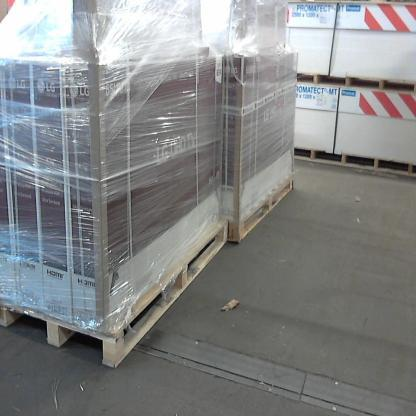pallets: (0, 211, 234, 378), (211, 172, 297, 252), (291, 143, 415, 180), (292, 67, 416, 101)
